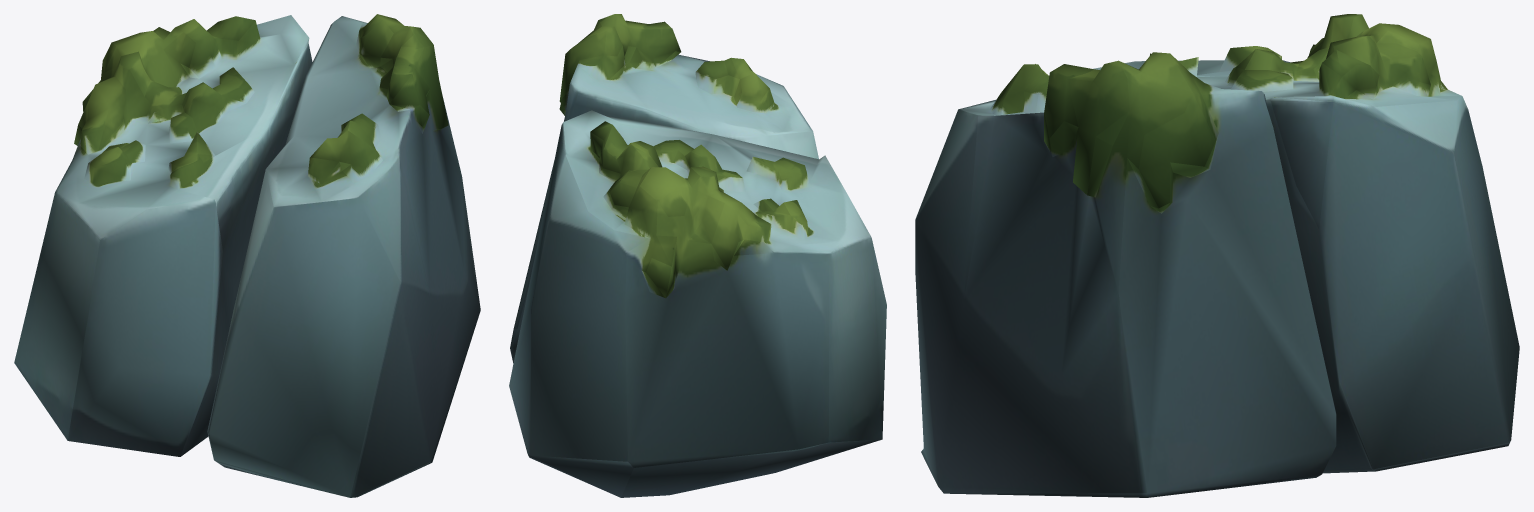
The picture shows the model from 3 angles, left to right: view 1: azimuth 30°, elevation 25°; view 2: azimuth 150°, elevation 25°; view 3: azimuth 270°, elevation 25°; orthographic projection. The views are drawn at different scales.
Visible parts, largest first — view 1: forest-rock-2; view 2: forest-rock-2; view 3: forest-rock-2.
Part boxes in pixels (x1,y1,x2,y2): forest-rock-2: [14, 14, 480, 497]; forest-rock-2: [509, 14, 886, 497]; forest-rock-2: [915, 14, 1519, 497].
Size of the model in its own units: 0.2188 by 0.2055 by 0.2344.
Materials: 1 (1 with a texture image).
